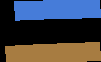parkingspot: (5, 42, 100, 62), (14, 0, 100, 20)
